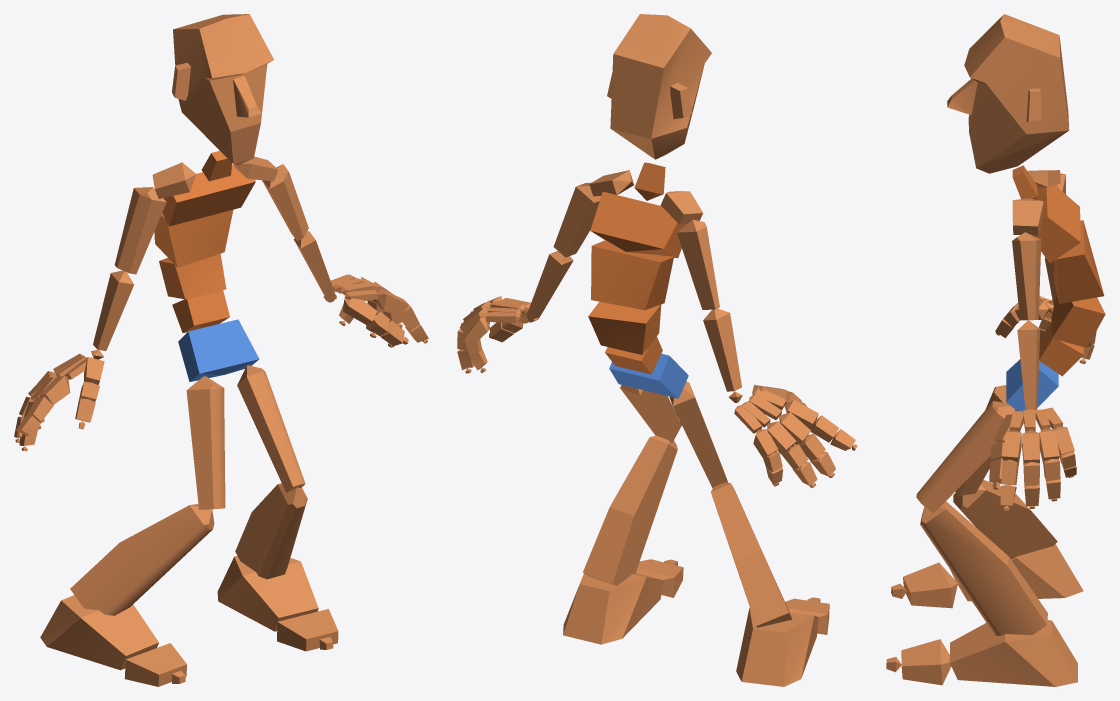
3 views of the same model, side by side, from view 1: azimuth 30°, elevation 25°; view 2: azimuth 150°, elevation 25°; view 3: azimuth 270°, elevation 25° (orthographic). The views are drawn at different scales.
Visible parts, largest first — view 1: BOPED_Head, BOPED_R_leg, BOPED_R_foot, BOPED_R_foot01, BOPED_L_leg, BOPED_R_legup, BOPED_L_legup, Bone01, Bone05, Bone04, BOPED_R_arm_upper, Bone03 (+9 smaller); view 2: BOPED_Head, BOPED_L_leg, BOPED_R_foot01, BOPED_R_foot, BOPED_R_leg, Bone04, Bone05, Bone03, BOPED_R_arm_upper, BOPED_R_legup, BOPED_L_arm_upper, Bone01 (+9 smaller); view 3: BOPED_Head, BOPED_L_leg, BOPED_R_foot01, BOPED_R_leg, BOPED_L_legup, BOPED_R_foot, Bone05, Bone04, BOPED_L_arm_upper, Bone03, BOPED_R_foot_toe01, BOPED_R_foot_toe04 (+14 smaller).
Part boxes in pixels (box(x1,y1,x2,y2)): BOPED_Head: box(172, 14, 273, 165); BOPED_R_leg: box(70, 504, 214, 615); BOPED_R_foot: box(40, 595, 158, 670); BOPED_R_foot01: box(217, 556, 318, 631); BOPED_L_leg: box(235, 483, 307, 579); BOPED_R_legup: box(186, 376, 225, 509); BOPED_L_legup: box(237, 365, 305, 492); Bone01: box(178, 319, 259, 381); Bone05: box(162, 164, 255, 226); Bone04: box(154, 210, 233, 267); BOPED_R_arm_upper: box(114, 187, 166, 274); Bone03: box(159, 253, 226, 299); BOPED_Head: box(607, 14, 711, 159); BOPED_L_leg: box(583, 435, 677, 585); BOPED_R_foot01: box(563, 573, 664, 644); BOPED_R_foot: box(736, 607, 818, 686); BOPED_R_leg: box(711, 482, 792, 627); Bone04: box(591, 240, 673, 310); Bone05: box(590, 191, 686, 258); Bone03: box(588, 301, 661, 354); BOPED_R_arm_upper: box(677, 220, 719, 309); BOPED_R_legup: box(669, 381, 727, 488); BOPED_L_arm_upper: box(553, 182, 600, 257); Bone01: box(609, 353, 688, 398); BOPED_Head: box(947, 14, 1069, 173); BOPED_L_leg: box(920, 501, 1047, 635); BOPED_R_foot01: box(949, 620, 1077, 686); BOPED_R_leg: box(953, 480, 1057, 558); BOPED_L_legup: box(916, 401, 1015, 512); BOPED_R_foot: box(949, 544, 1083, 601); Bone05: box(1033, 185, 1080, 263); Bone04: box(1054, 220, 1104, 303); BOPED_L_arm_upper: box(1012, 232, 1041, 320); Bone03: box(1051, 295, 1105, 347); BOPED_R_foot_toe01: box(903, 562, 957, 608); BOPED_R_foot_toe04: box(901, 639, 951, 685).
Size of the model in its own units: 124 by 178 by 56.5.
